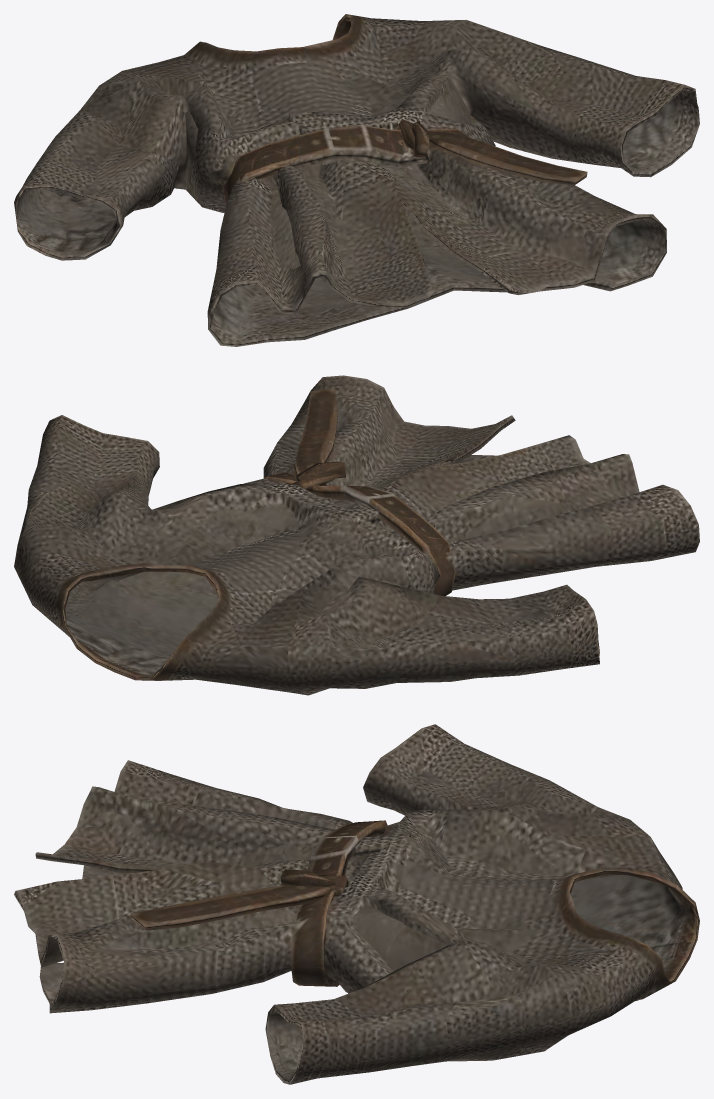
Rendered from g_armor.glb.
3 renders of one model, top to bottom at view 1: azimuth 30°, elevation 25°; view 2: azimuth 150°, elevation 25°; view 3: azimuth 270°, elevation 25°, orthographic. The views are drawn at different scales.
Parts seen in each view (by area): view 1: g_armor; view 2: g_armor; view 3: g_armor.
Boxes of the visible parts, x1,y1,x2,y2 form: g_armor: (14, 14, 699, 346); g_armor: (14, 375, 699, 695); g_armor: (14, 724, 699, 1084).
Bounding box in the file's own units: 0.6 × 0.1163 × 0.5583.
Materials: 1 (1 with a texture image).
